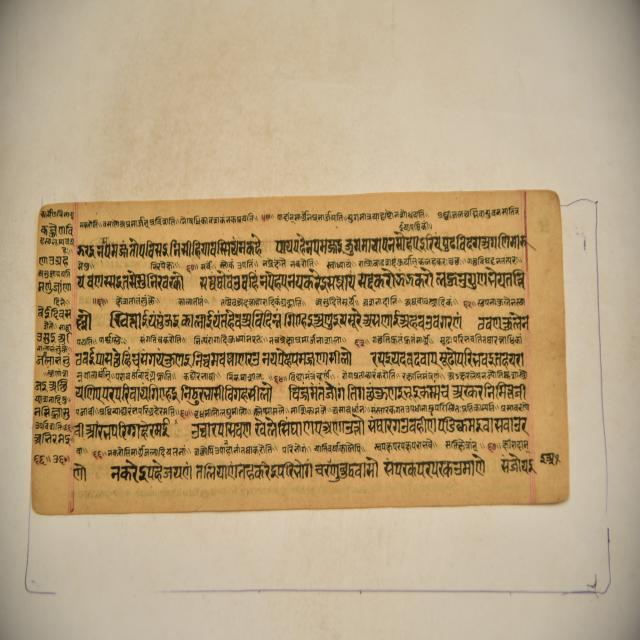text_paragraph: (26, 188, 568, 512)
